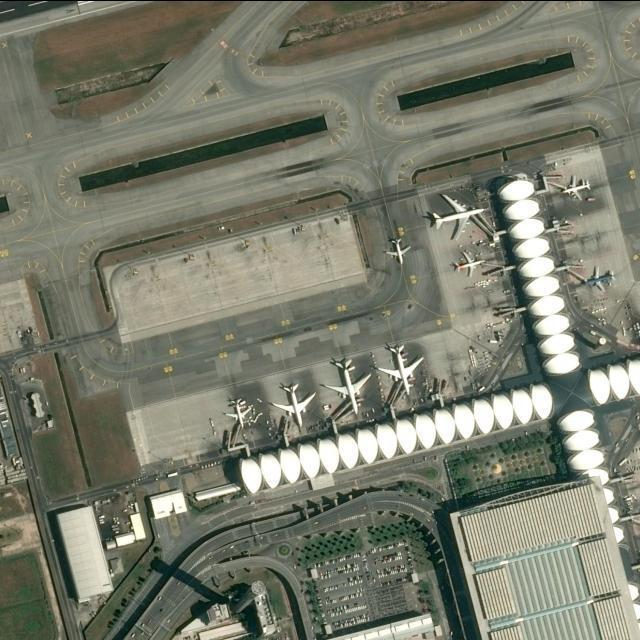Aircraft: (324, 355, 370, 413), (427, 191, 485, 237), (377, 342, 425, 391), (271, 378, 315, 424), (454, 248, 486, 278), (583, 265, 617, 293), (223, 396, 253, 427), (562, 171, 593, 199), (384, 236, 410, 266)
